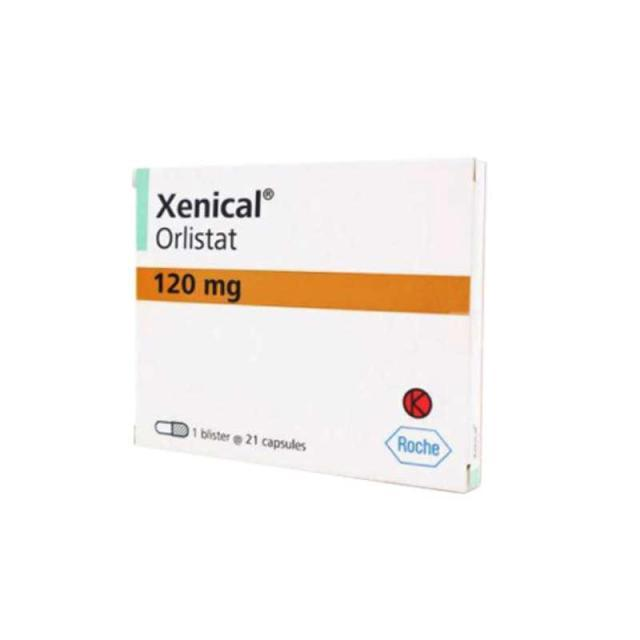drug-name: (153, 188, 263, 221)
